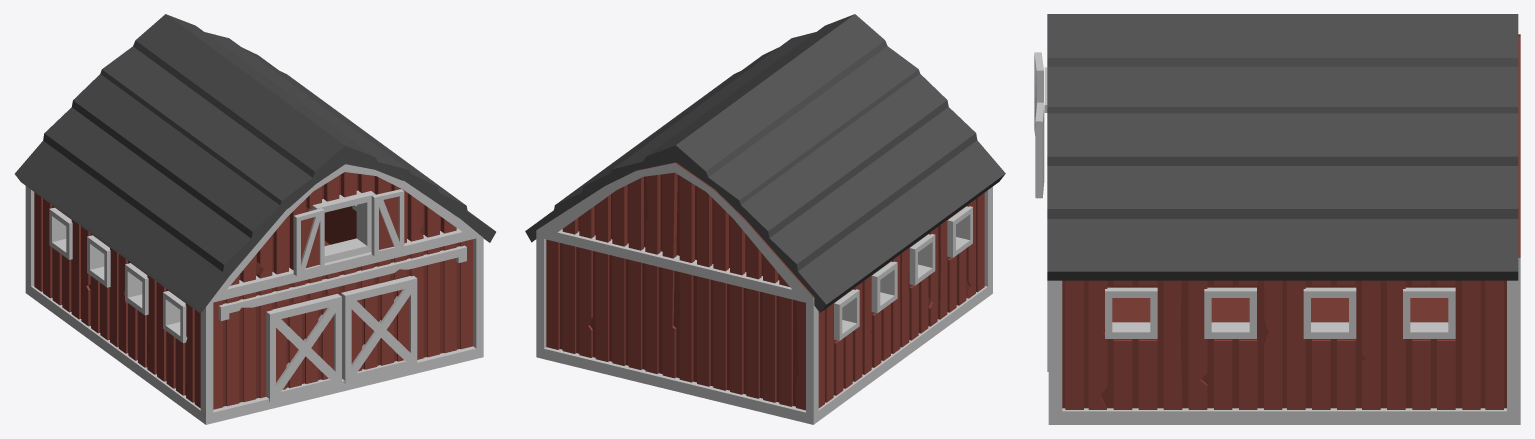
The model's file is Barn.glb.
3 views of the same model, side by side, from view 1: azimuth 30°, elevation 25°; view 2: azimuth 150°, elevation 25°; view 3: azimuth 270°, elevation 25° (orthographic). The views are drawn at different scales.
Visible parts, largest first — view 1: Barn_Cube.005, Barn_Door_Cube.002, Barn_Door2_Cube.007, Barn_Window_Cube, Barn_Window2_Cube.014; view 2: Barn_Cube.005; view 3: Barn_Cube.005, Barn_Window_Cube, Barn_Window2_Cube.014.
Part boxes in pixels (left/top/right/bottom): Barn_Cube.005: left=15, top=14, right=495, bottom=424; Barn_Door_Cube.002: left=340, top=276, right=417, bottom=383; Barn_Door2_Cube.007: left=266, top=293, right=341, bottom=401; Barn_Window_Cube: left=371, top=189, right=404, bottom=256; Barn_Window2_Cube.014: left=293, top=208, right=324, bottom=275; Barn_Cube.005: left=525, top=14, right=1005, bottom=424; Barn_Cube.005: left=1044, top=14, right=1520, bottom=424; Barn_Window_Cube: left=1035, top=102, right=1044, bottom=198; Barn_Window2_Cube.014: left=1034, top=52, right=1043, bottom=135.
Bounding box in the file's own units: 7.73 × 6.01 × 8.22.
